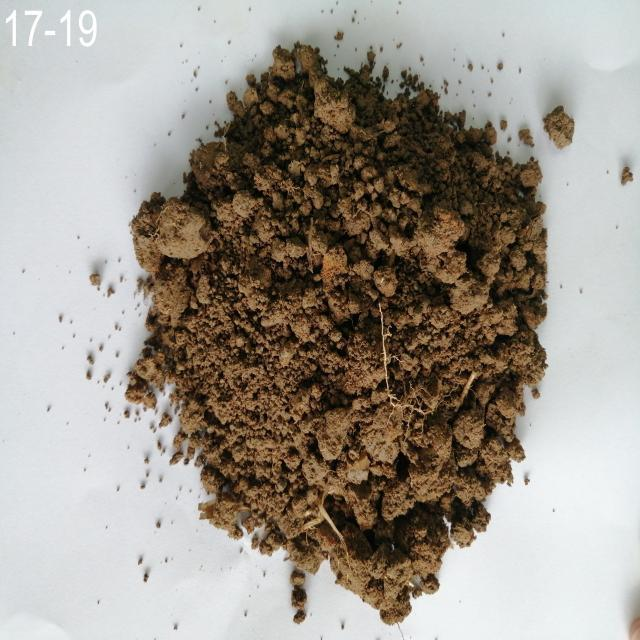soil: (234, 106, 470, 526)
